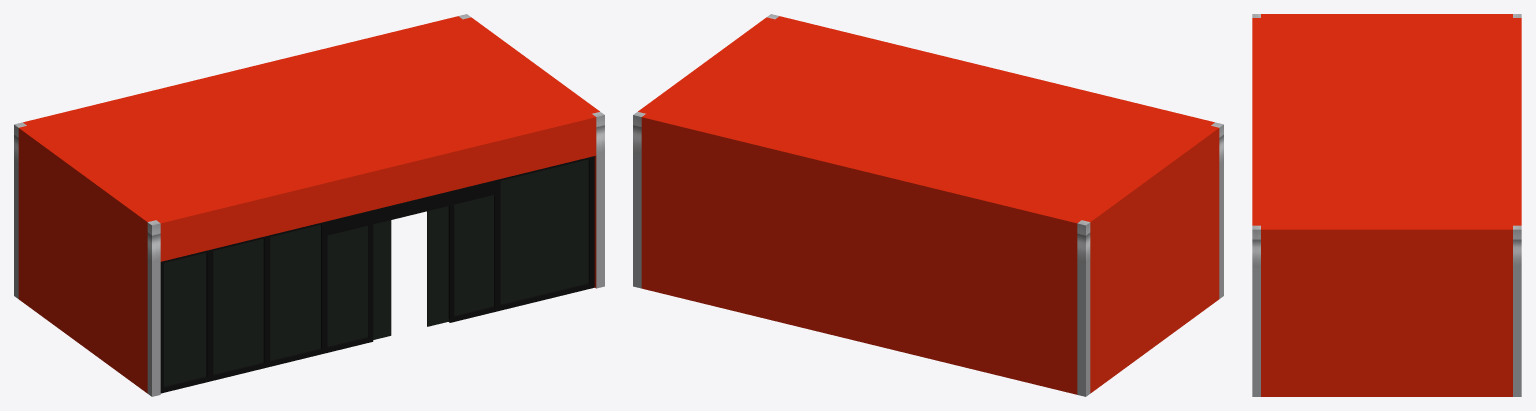
The model's file is ThirdStore.fbx.
3 renders of one model, left to right at view 1: azimuth 30°, elevation 25°; view 2: azimuth 150°, elevation 25°; view 3: azimuth 270°, elevation 25°, orthographic. The views are drawn at different scales.
Parts seen in each view (by area): view 1: 편의점; view 2: 편의점; view 3: 편의점.
Boxes of the visible parts, x1=… form: 편의점: x1=14, y1=14, x2=604, y2=396; 편의점: x1=633, y1=14, x2=1223, y2=396; 편의점: x1=1252, y1=14, x2=1521, y2=396.
Size of the model in its own units: 8.97 by 3.25 by 4.74.
6 materials, 2 textured.
